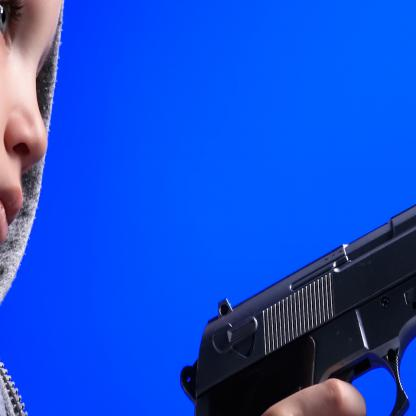gun: (178, 146, 416, 416)
